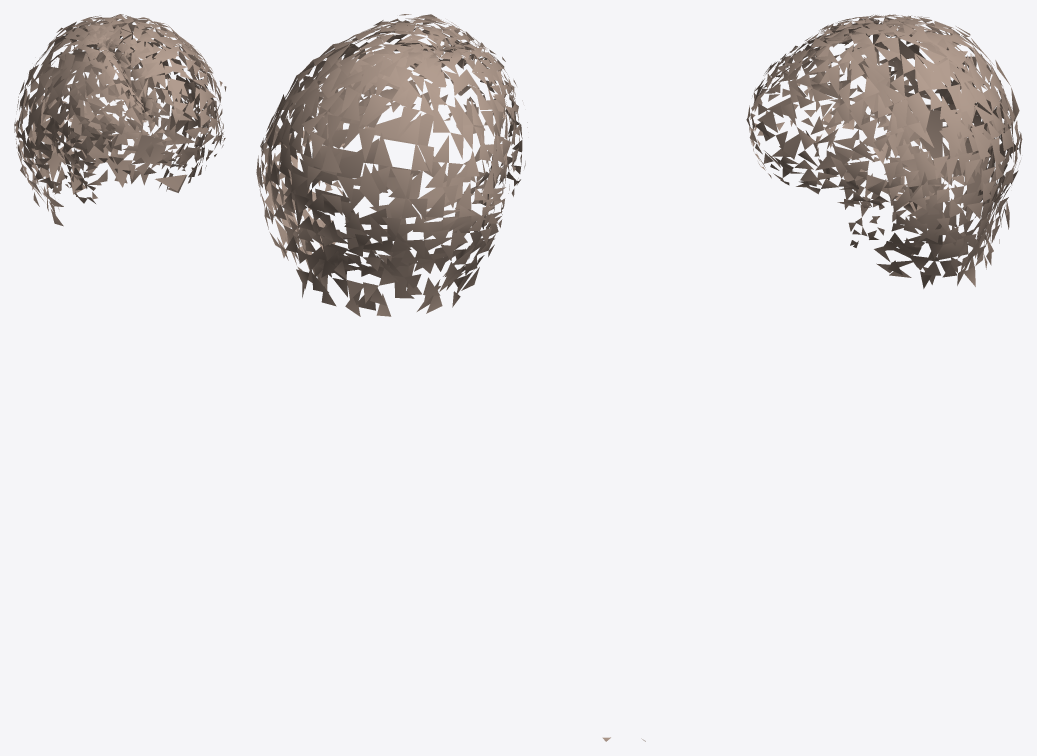
File: female_hair_12_lod1.glb
The picture shows the model from 3 angles, left to right: view 1: azimuth 30°, elevation 25°; view 2: azimuth 150°, elevation 25°; view 3: azimuth 270°, elevation 25°; orthographic projection. The views are drawn at different scales.
Parts seen in each view (by area): view 1: female-hair-12; view 2: female-hair-12; view 3: female-hair-12.
Boxes of the visible parts, x1,y1,x2,y2 form: female-hair-12: [14, 14, 226, 226]; female-hair-12: [256, 14, 610, 741]; female-hair-12: [641, 14, 1022, 741].
Bounding box in the file's own units: 0.2037 × 0.6586 × 0.3036.
